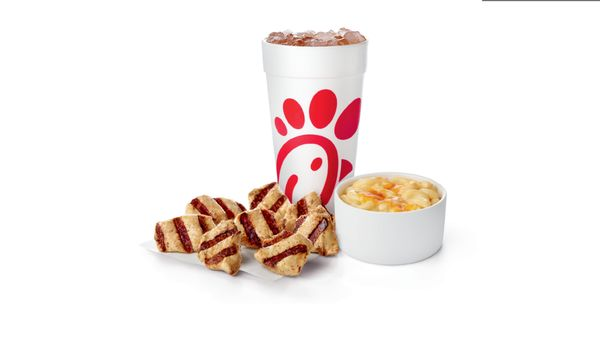pizza: (262, 28, 368, 206)
soup: (237, 180, 341, 276)
sushi: (333, 172, 447, 265)
